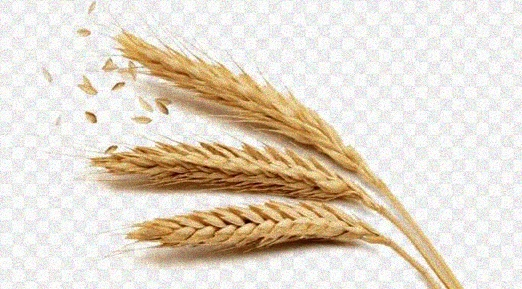wheat: (106, 29, 371, 175), (63, 131, 380, 205), (101, 199, 388, 246)
